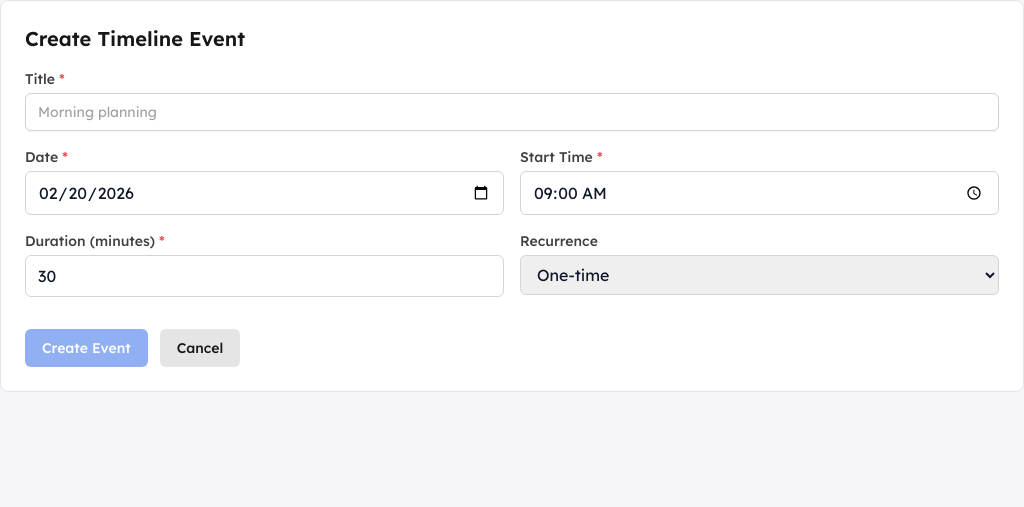
CreateTimelineEventForm › shows weekly day selector when recurrence is weekly
Select "Weekly" in the dropdown with test id "timeline-recurrence-select" at (760, 275), box [520, 255, 999, 295]
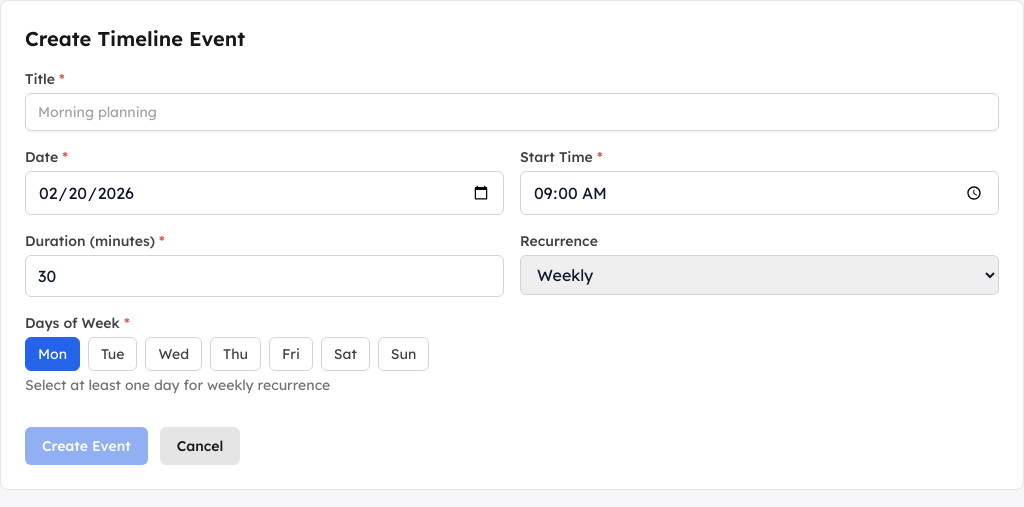
Now the element with test id "timeline-weekly-days" is shown, box [25, 337, 429, 371]
